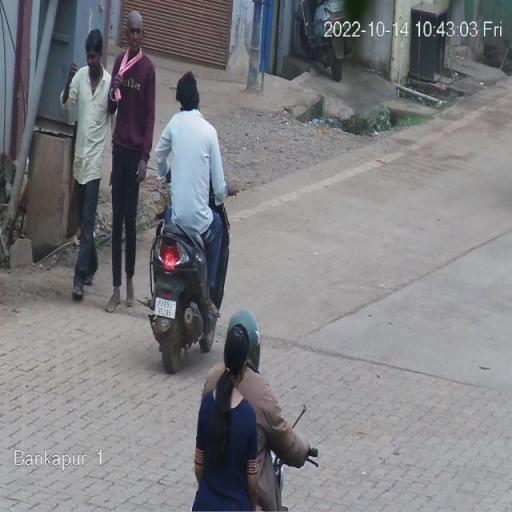using mobile: (176, 104, 187, 119)
